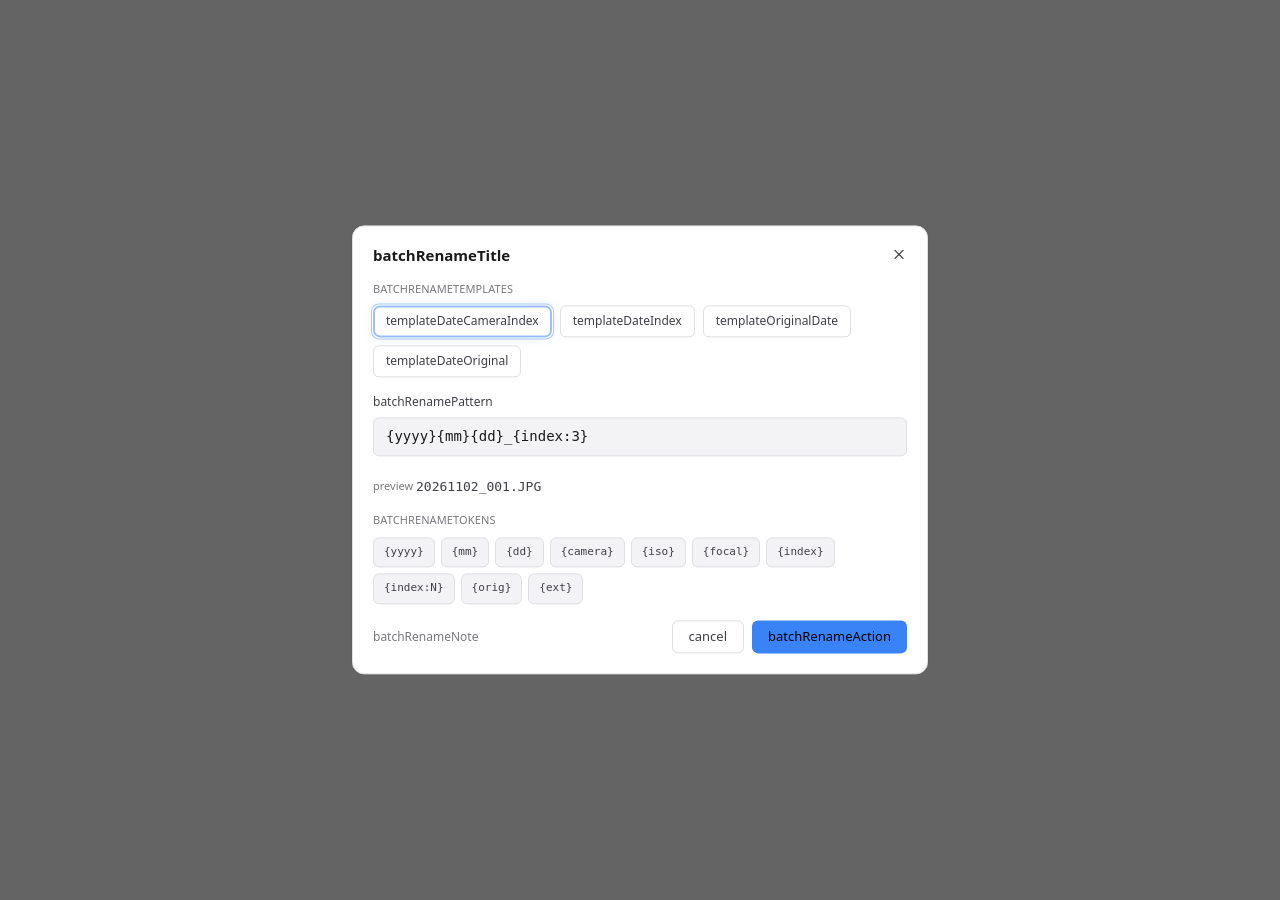
Test case: BatchRenameDialog preferences › uses the default for an empty persisted template and ignores storage failures
This screenshot has width=1280, height=900.
What coordinates should you click on to do the following:
click the button "batchRenameAction"
I would click on:
 (830, 637)
Its box is [752,620,907,654].
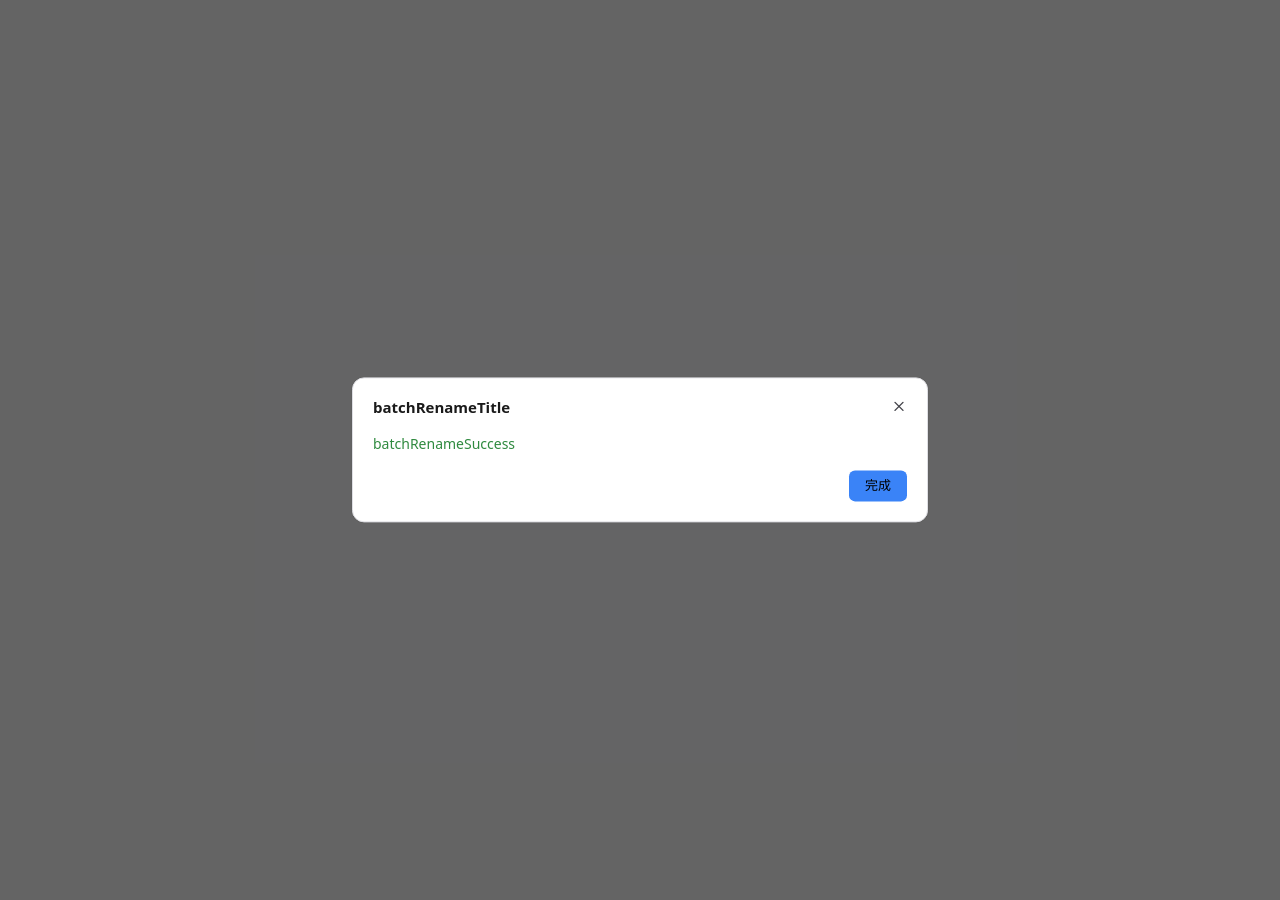
Result: the text "batchRenameSuccess" is shown at [373,433,515,454]
